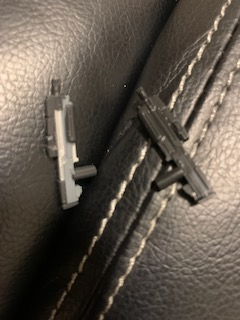rifle: (129, 85, 215, 208), (41, 76, 99, 213)
